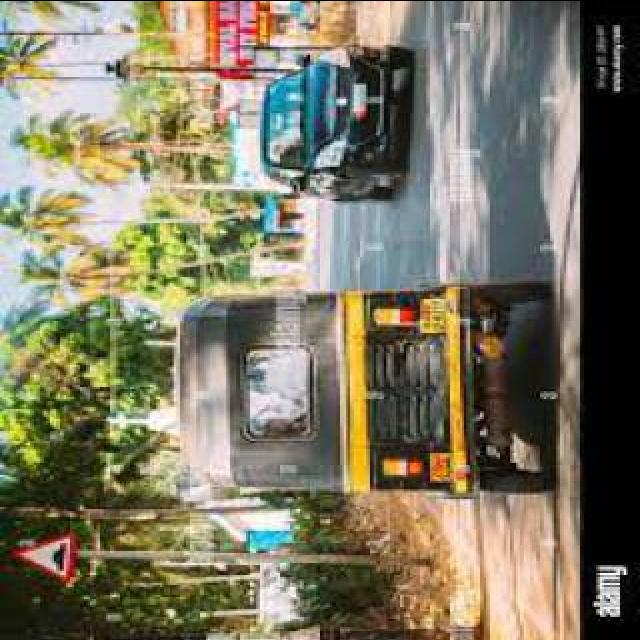Autorickshaw: (170, 268, 558, 504)
